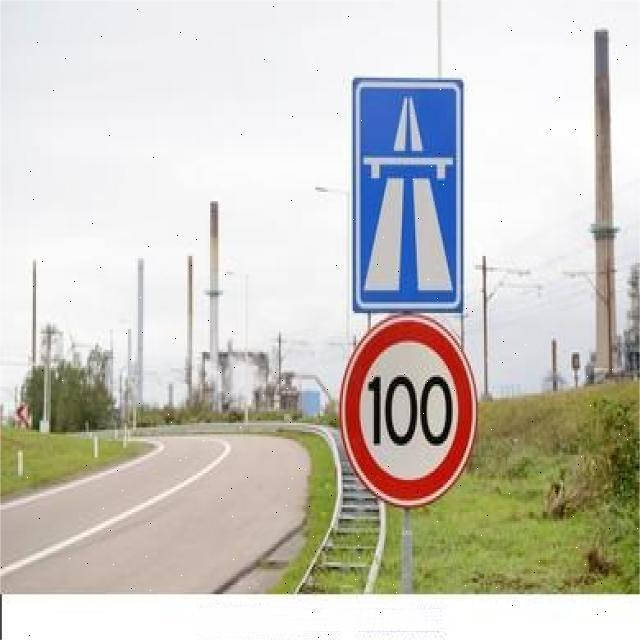speed limit 100: (340, 315, 478, 507)
